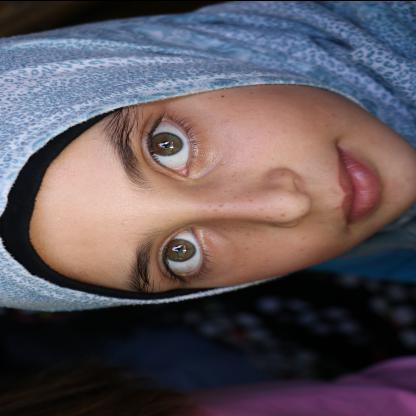Eye: (140, 111, 210, 180), (157, 226, 231, 284)
Mouth: (334, 140, 382, 224)
Nose: (193, 168, 310, 227)
